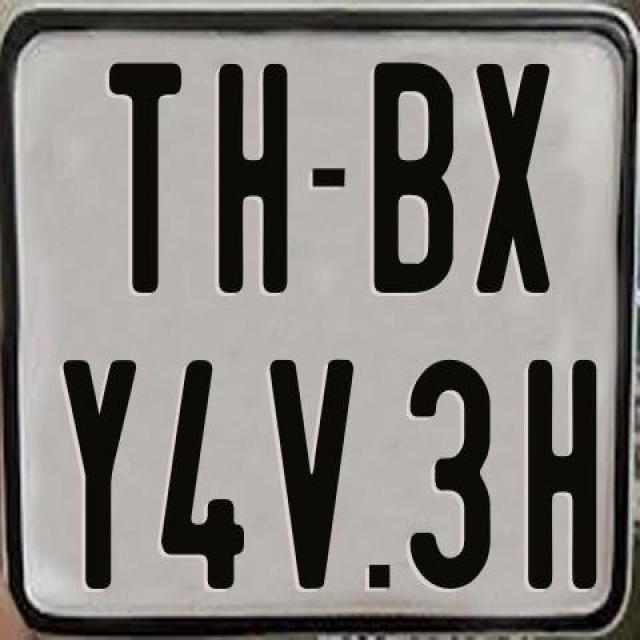3: (408, 358, 490, 588)
4: (160, 360, 249, 597)
B: (374, 63, 454, 294)
H: (525, 357, 603, 592), (217, 59, 292, 298)
T: (109, 61, 188, 293)
V: (270, 358, 354, 596)
X: (474, 64, 552, 296)
Y: (62, 356, 136, 588)
